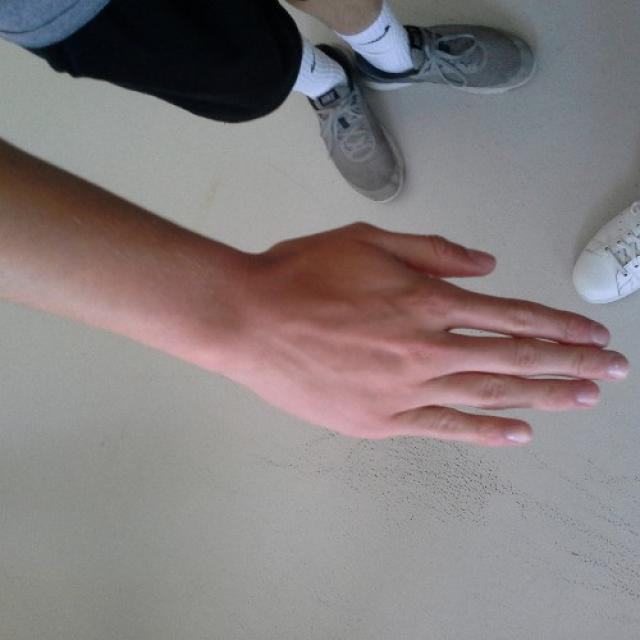paper: (255, 216, 635, 454)
